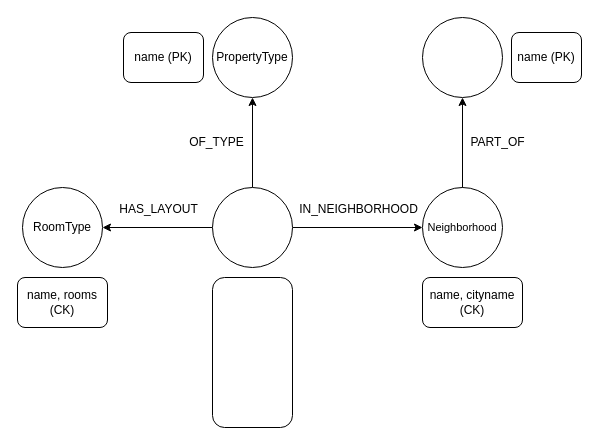
This 599x445 diagram has some shape labels left out. Here are the shapes that lost their labels. From the top down, the centre of each, then its label:
At point 462,57: "City".
At point 252,227: "Property".
At point 252,352: "id (PK) name beds baths price totalArea pricePerSqft hasBalcony description".
